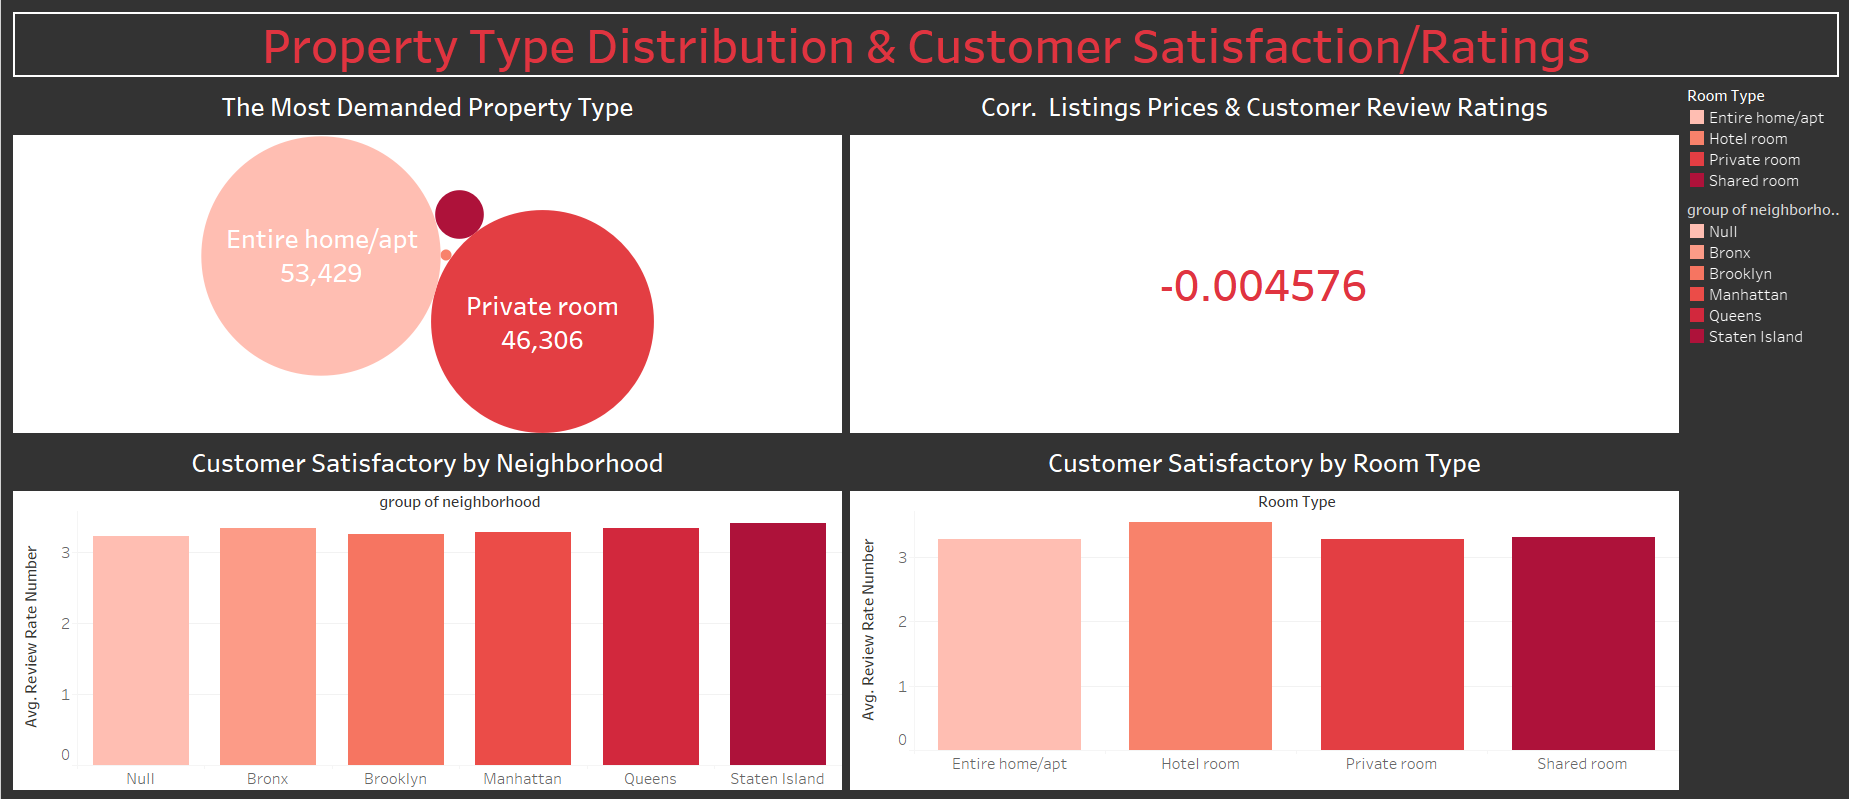

Layout of this report page (visuals, bound fields, positions):
{"tool":"tableau","page":{"name":"Dashboard 2","canvas":[1000,1000],"units":"permille","ordinal":1},"visuals":[{"type":"title","box":[4.3,10,991.4,91]},{"type":"worksheet","title":"Sheet 4","mark":"Circle","box":[4.3,101,452.4,444.5]},{"type":"worksheet","title":"Sheet 5","mark":"Automatic","box":[456.7,101,452.5,444.5]},{"type":"legend","title":"Sheet 4","param":"[federated.0m09iuw1bli8uh12t0umq16q7wme].[none:room type:nk]","box":[909.2,101,86.5,142.2]},{"type":"legend","title":"Sheet 7","param":"[federated.0m09iuw1bli8uh12t0umq16q7wme].[none:Calculation_1158551034280964096:n","box":[909.2,243.2,86.5,194.5]},{"type":"worksheet","title":"Sheet 7","mark":"Automatic","rows":["review rate number"],"cols":["Calculation_1158551034280964096"],"box":[4.3,545.5,452.4,444.5]},{"type":"worksheet","title":"Sheet 6","mark":"Automatic","rows":["review rate number"],"cols":["room type"],"box":[456.7,545.5,452.5,444.5]}]}

Visuals, with their boxes on the dashboard's canvas, which has no fixed pixel size, in thousandths of its width and height (x1, y1, x2, y2). These are canvas units, not pixel positions in the 1849x799 screenshot, which may show the page scaled, cropped or inside an application window:
title: box=[4, 10, 996, 101]
"Sheet 4" worksheet (Circle marks): box=[4, 101, 457, 546]
"Sheet 5" worksheet: box=[457, 101, 909, 546]
"Sheet 4" legend: box=[909, 101, 996, 243]
"Sheet 7" legend: box=[909, 243, 996, 438]
"Sheet 7" worksheet: box=[4, 546, 457, 990]
"Sheet 6" worksheet: box=[457, 546, 909, 990]
